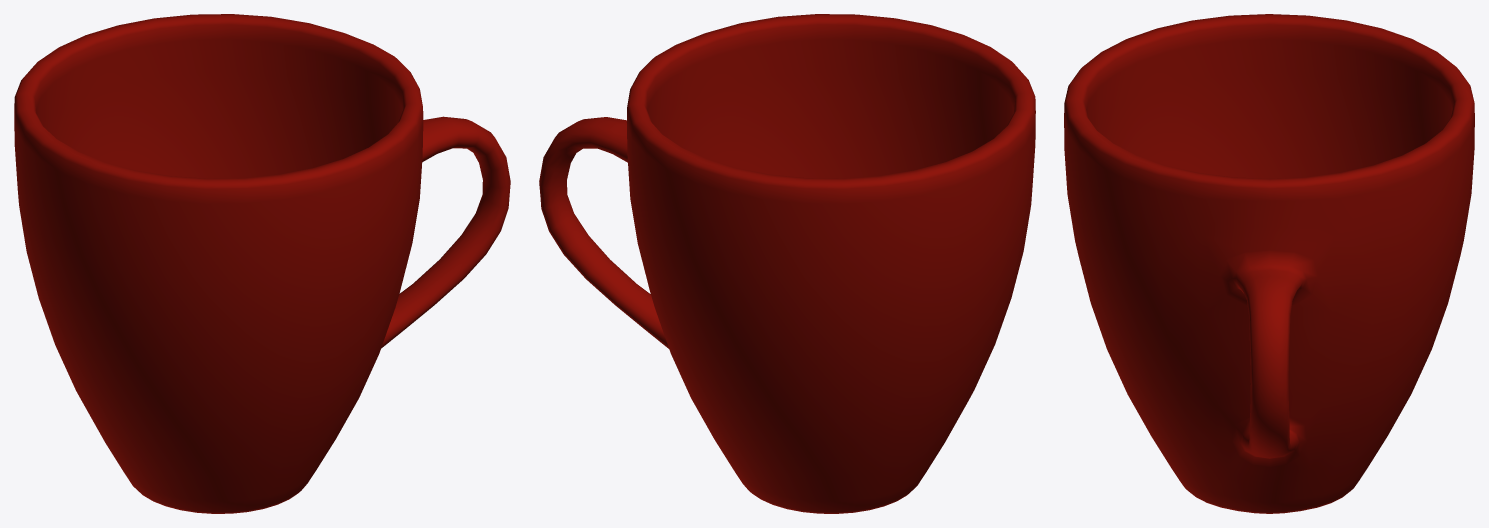
Rendered from taza.glb.
3 renders of one model, left to right at view 1: azimuth 30°, elevation 25°; view 2: azimuth 150°, elevation 25°; view 3: azimuth 270°, elevation 25°, orthographic.
Visible parts, largest first — view 1: Mug; view 2: Mug; view 3: Mug.
Part boxes in pixels (<box>): Mug: <box>14,14,510,513</box>; Mug: <box>539,14,1035,513</box>; Mug: <box>1064,14,1474,513</box>.
Bounding box in the file's own units: 0.1361 × 0.1055 × 0.104.
